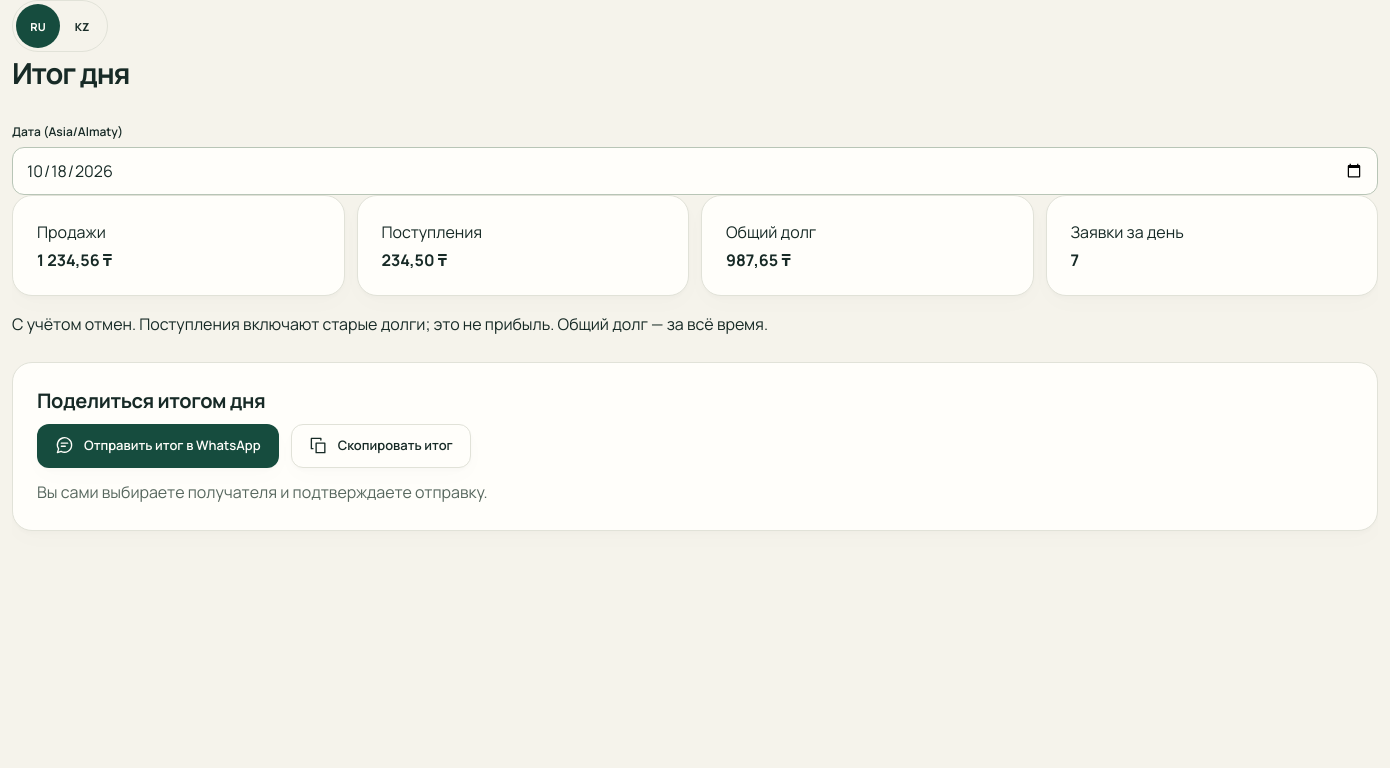
summary sharing states and isolation › handles an unavailable Clipboard API without a false success
Click the button "Скопировать итог".
click(381, 446)  # box [291,424,471,468]
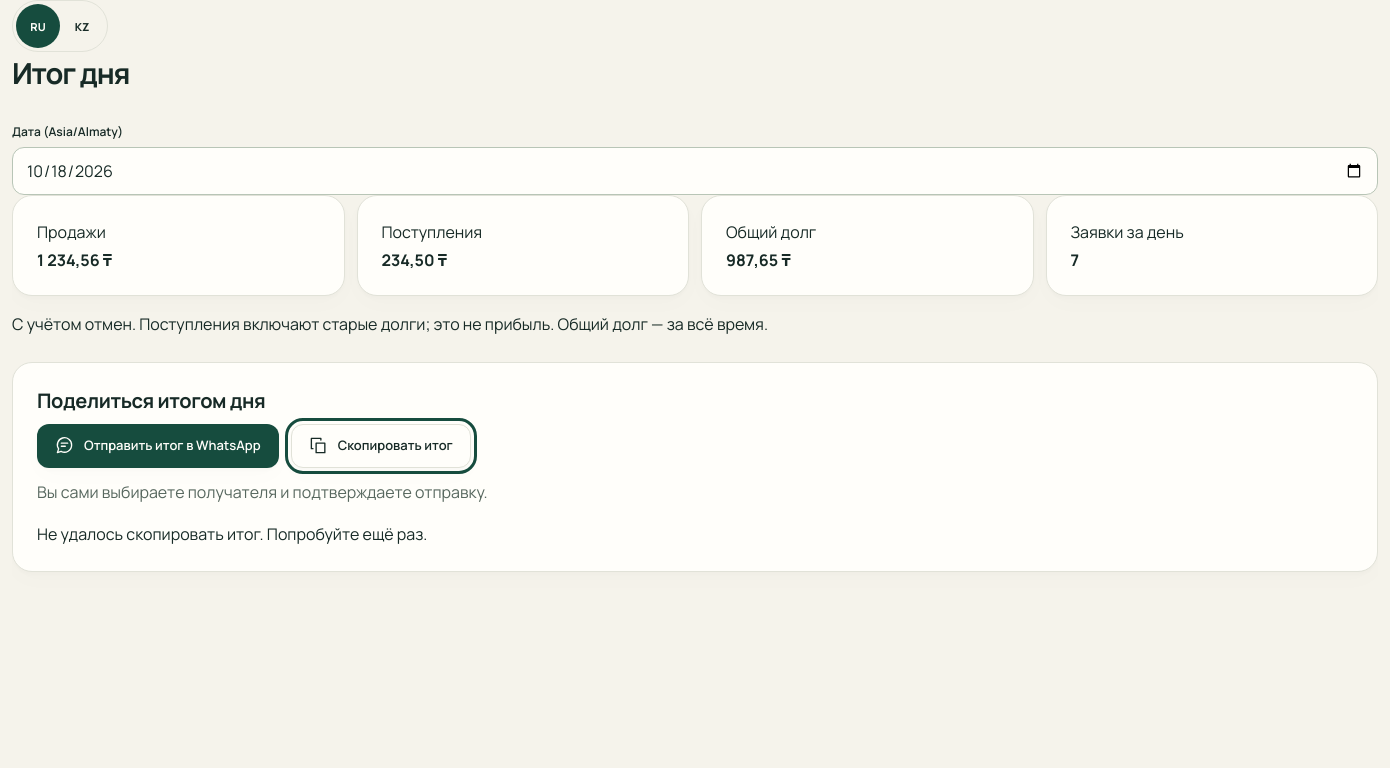
Result: the message shows "Не удалось скопировать" at [37,523,427,545]
